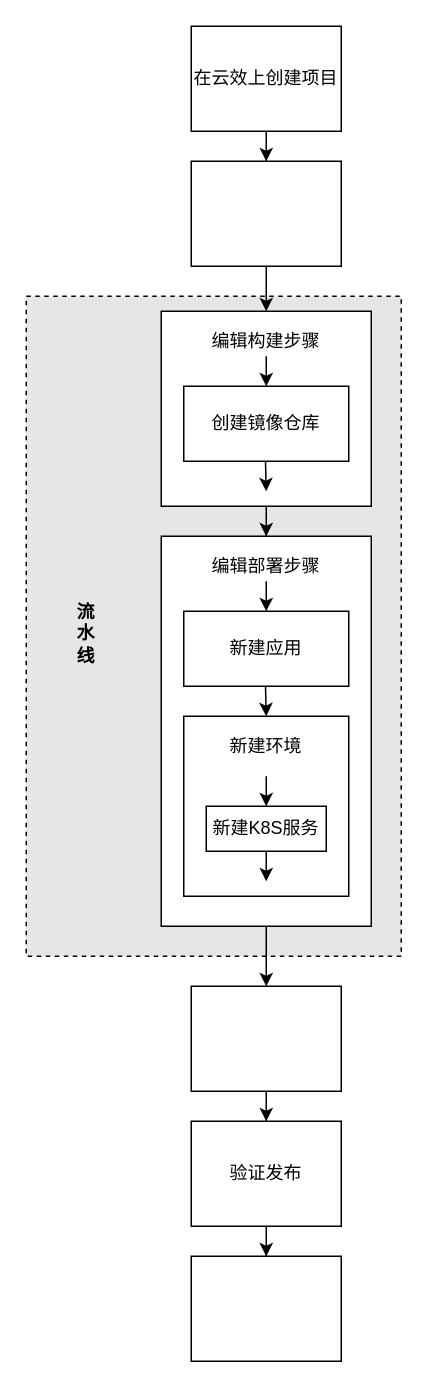
Some shapes in this 428 by 1388 pixel diagram are drawn without their labels. Each missing label, with the centre of its shape:
保存并运行流水线: (x=265, y=1038)
在项目中创建流水线: (x=265, y=213)
结束: (x=265, y=1308)
